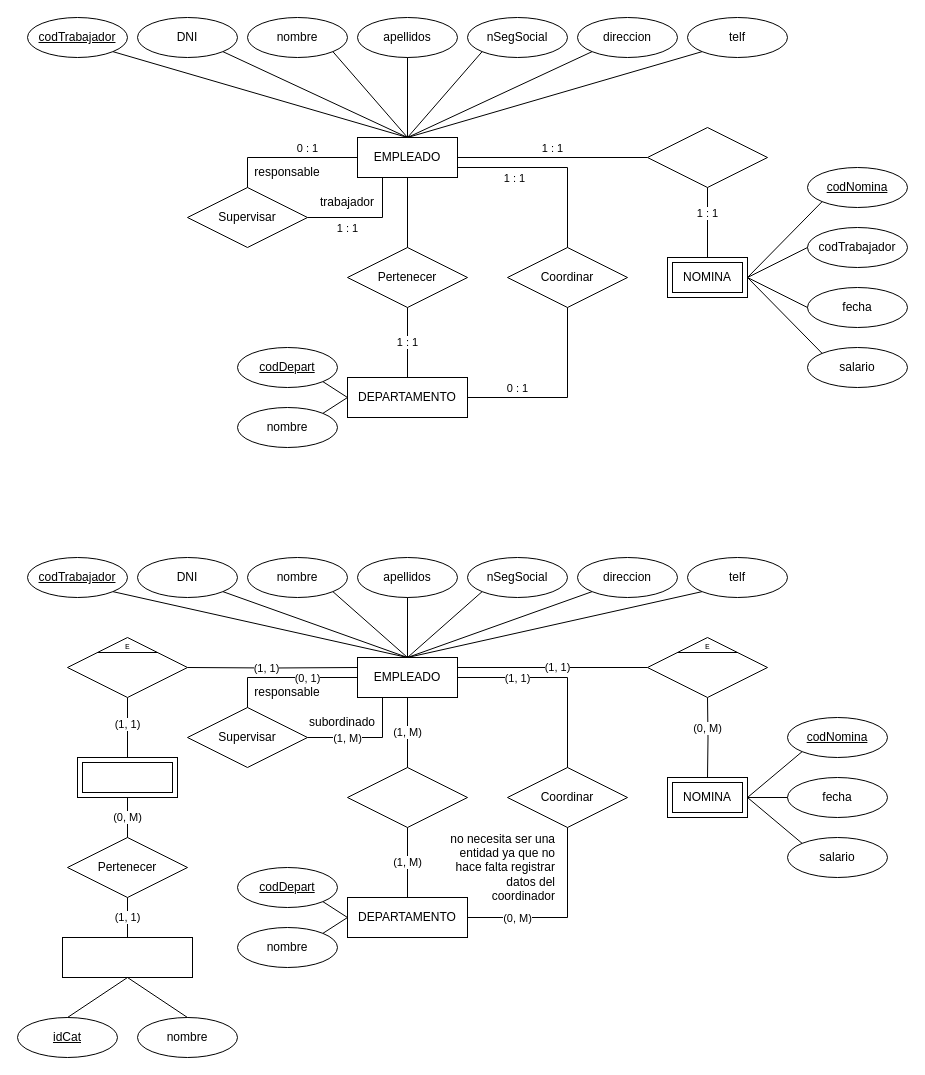
The diagram is 925 pixels wide and 1075 high, and some of its shapes have lost their labels. Here are the shapes that lost their labels. From the top down, the centre of each, then its label:
At point 707,157: "Recibir".
At point 127,667: "Tener".
At point 707,667: "Asignar".
At point 127,777: "CONTRATO".
At point 407,797: "Trabajar".
At point 127,957: "CATEGORIAS PROFESIONALES".
